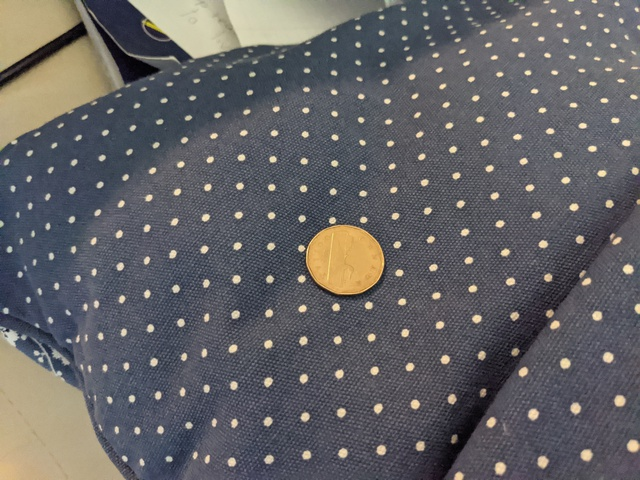loonie: (300, 216, 387, 293)
